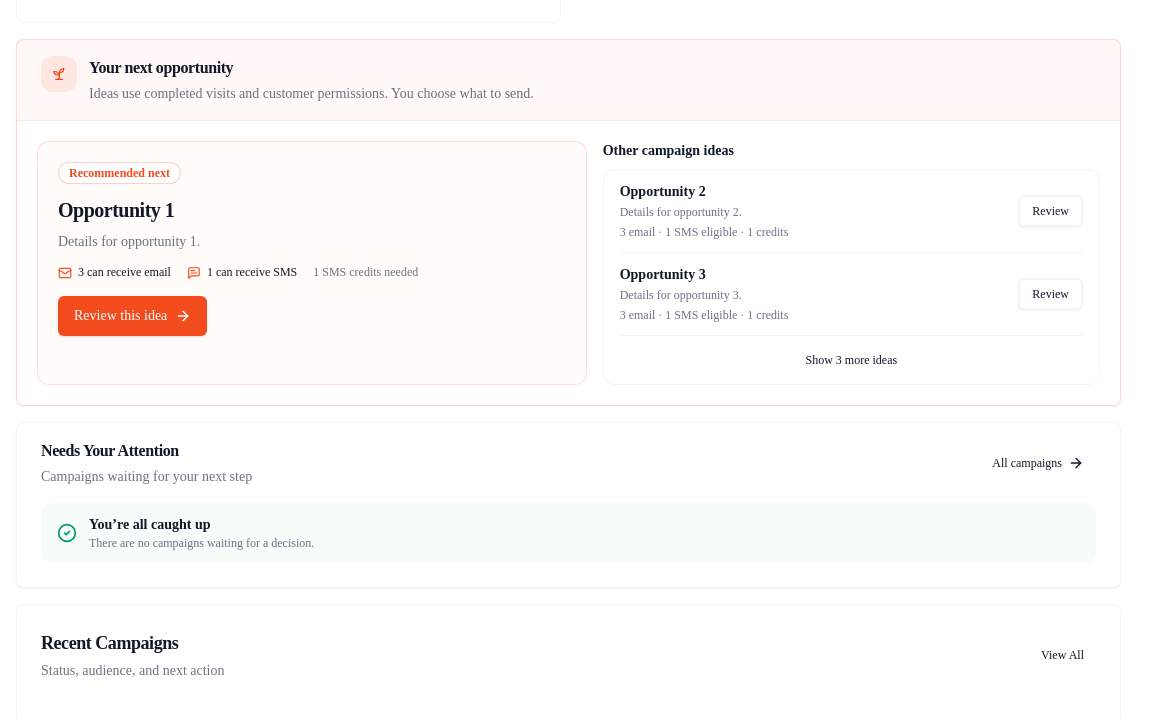
Scenario: GrowthOverviewClient layout › puts the next action first and reveals additional ideas only on request
(page scrolled)
expect the heading "Opportunity 1" is shown: met, box [58,196,174,224]
expect the heading "Other campaign ideas" is shown: met, box [603,143,734,158]
Click the button "Show 3 more ideas": point(851, 360) [794,344,909,376]
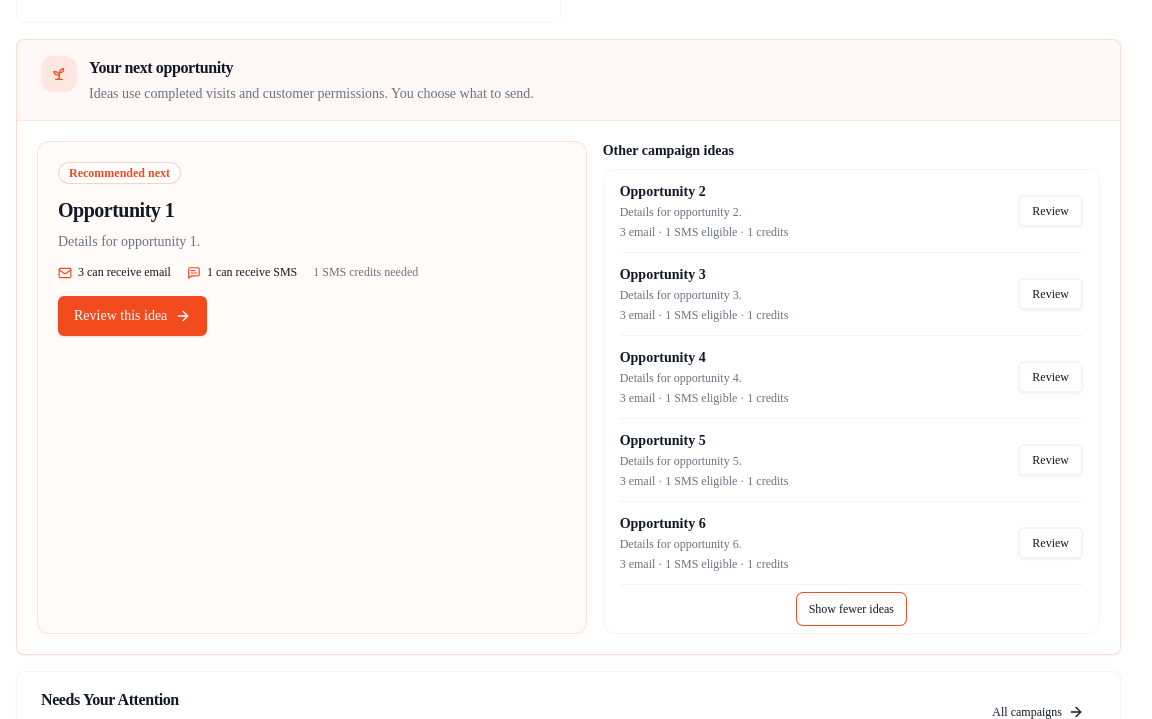
expect the text "Opportunity 4" is shown: met, box [620,350,706,365]
expect the text "Opportunity 6" is shown: met, box [620,516,706,531]
